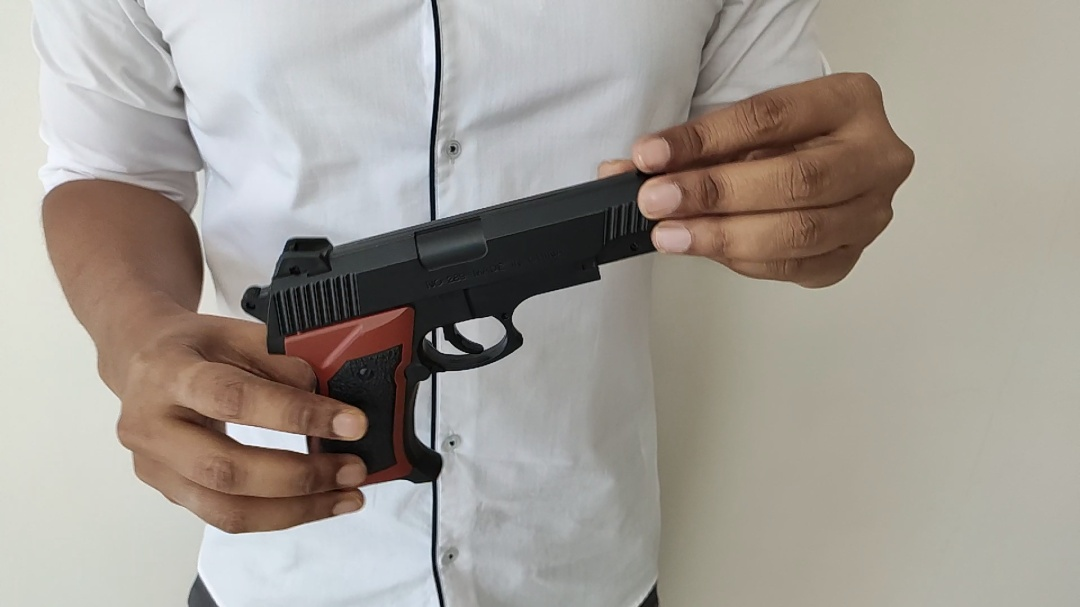gun: (330, 92, 752, 491)
